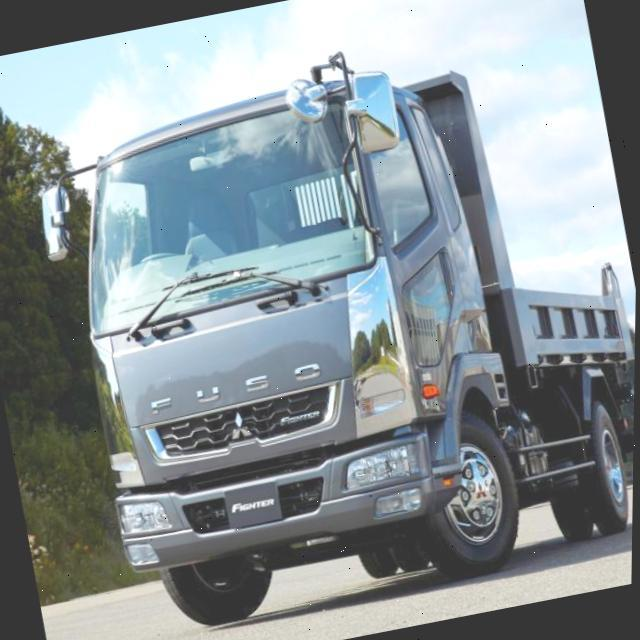truck: (6, 7, 640, 640)
